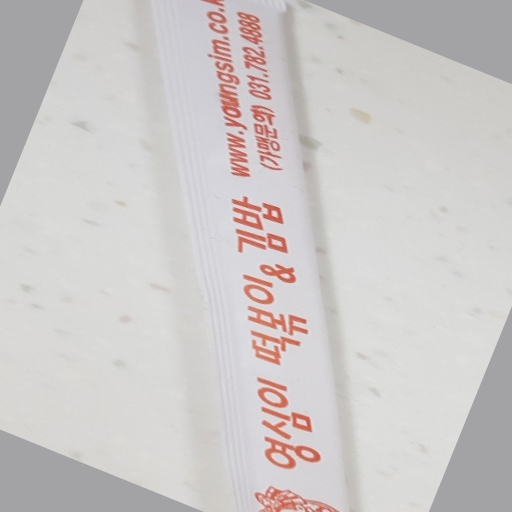Paper_2: (146, 1, 353, 512)
